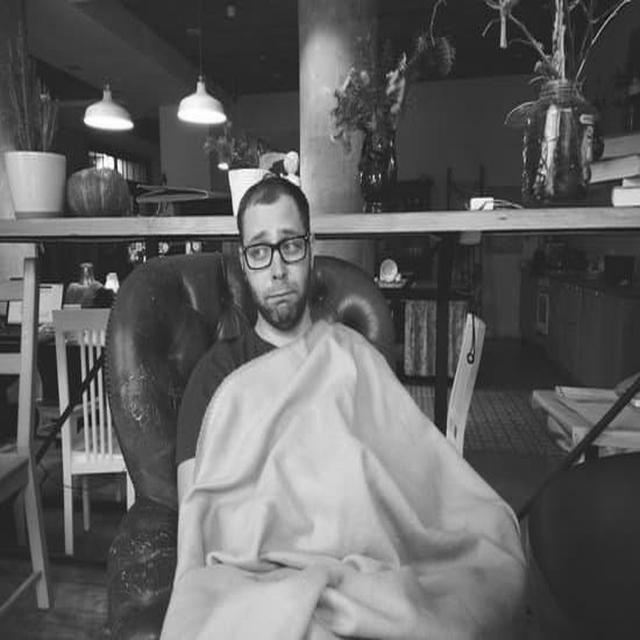Sadness: (246, 203, 306, 328)
